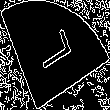L_SW: (32, 30, 78, 80)
